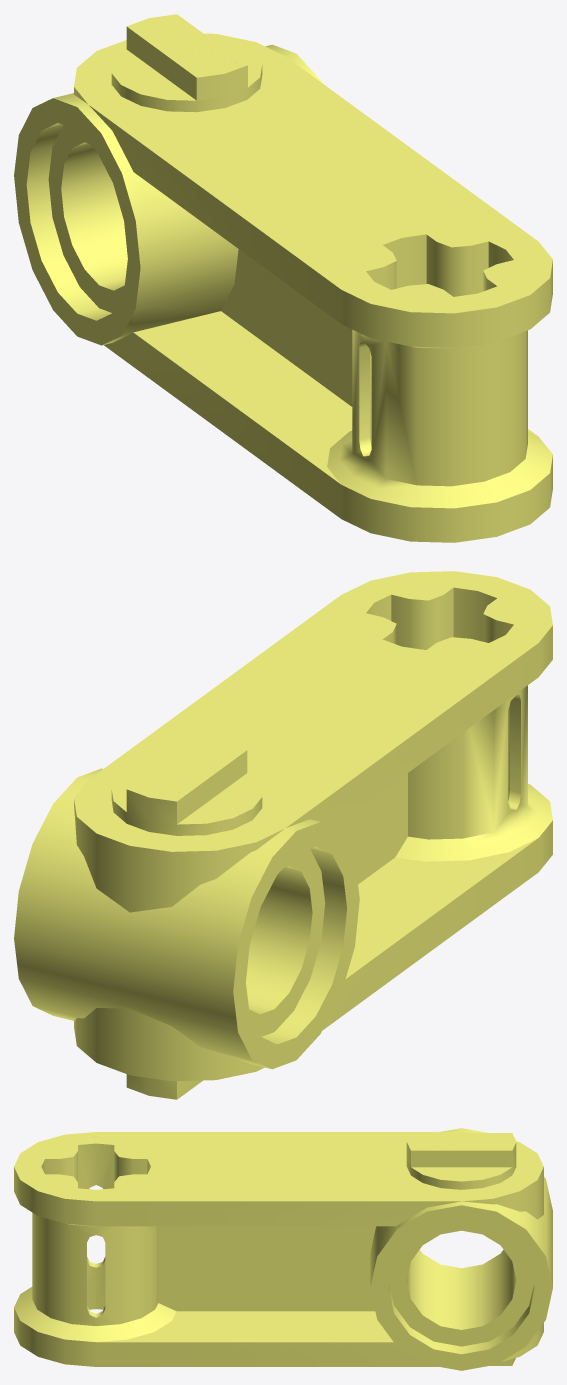
3 views of the same model, one above another, from view 1: azimuth 30°, elevation 25°; view 2: azimuth 150°, elevation 25°; view 3: azimuth 270°, elevation 25° (orthographic). The views are drawn at different scales.
Parts seen in each view (by area): view 1: 32068.dat; view 2: 32068.dat; view 3: 32068.dat.
Part boxes in pixels (x1=…): 32068.dat: x1=14, y1=14, x2=552, y2=542; 32068.dat: x1=14, y1=571, x2=552, y2=1099; 32068.dat: x1=14, y1=1128, x2=552, y2=1370.
Size of the model in its own units: 0.008 by 0.0104 by 0.0236.
